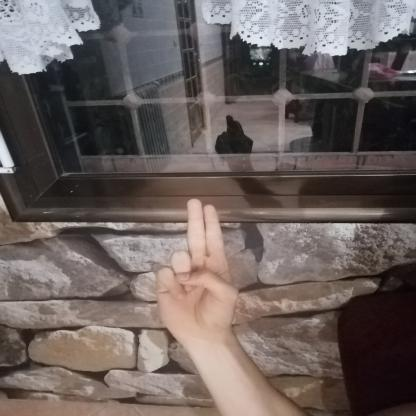TA: (142, 190, 248, 342)
